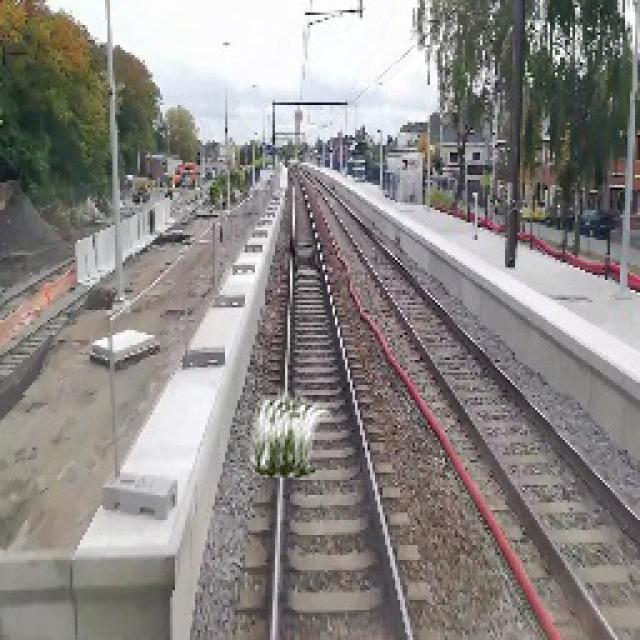danger: (236, 382, 330, 486)
rail: (303, 172, 640, 639), (246, 165, 466, 640)
